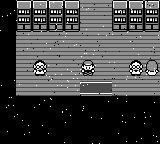main: (80, 60, 96, 76)
no-caminable: (1, 0, 160, 143), (17, 1, 79, 32), (113, 1, 160, 32)
npc: (33, 60, 47, 77), (145, 60, 159, 76), (128, 61, 143, 75)
puerta: (76, 78, 116, 96)
